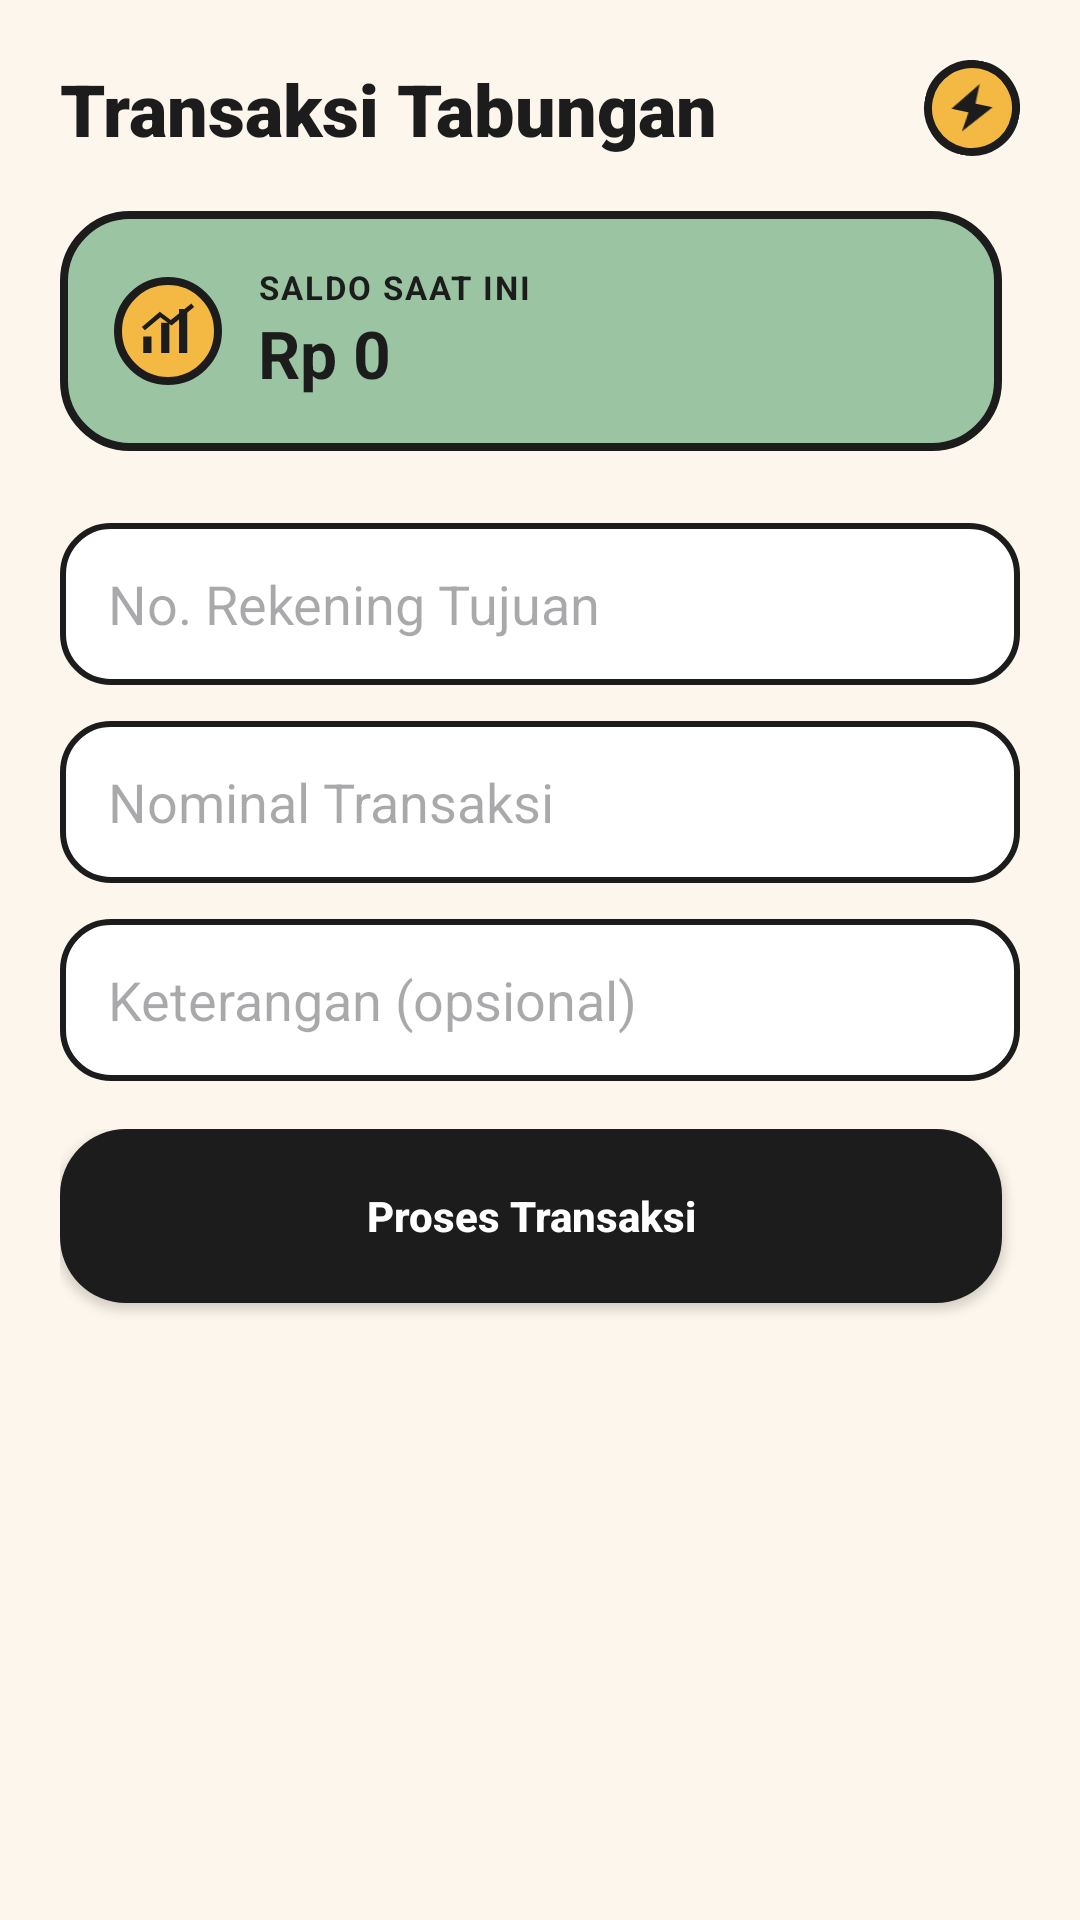

Icons on this 1080*1920 Android screen, each with the point to tap as (x,y):
chart up: (168,331)
